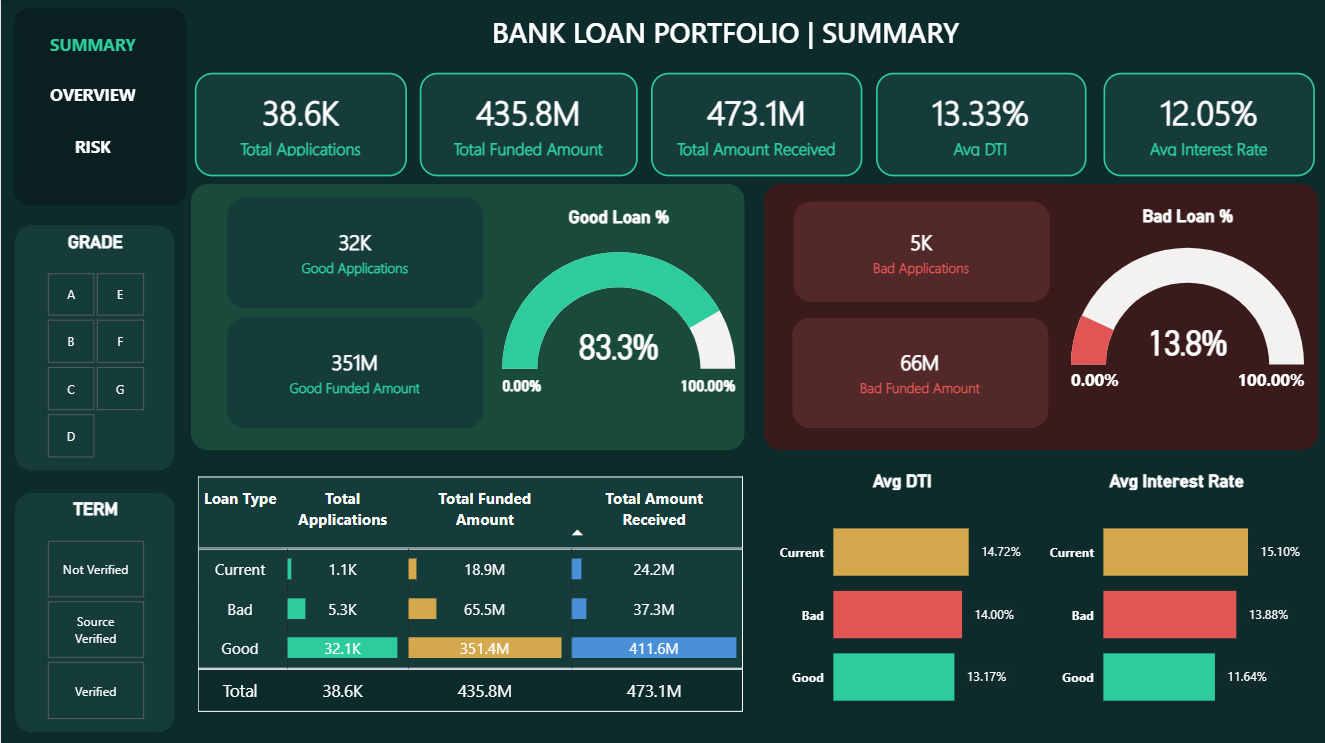

This screenshot's page, from the dashboard's own definition file:
{"tool":"powerbi","page":{"name":"SUMMARY","canvas":[1280,720],"ordinal":0},"visuals":[{"type":"shape","box":[735.7,178.6,535.7,257.1],"z":0},{"type":"shape","box":[182.9,178.6,534.3,257.1],"z":1000},{"type":"gauge","fields":{"Y":["loan_data_cleaned2.Good Loan %"]},"box":[478.8,200,235,208.8],"z":2000},{"type":"cardVisual","fields":{"Data":["loan_data_cleaned2.Good Funded Amount"]},"box":[218.8,307.5,247.5,106.2],"z":3000},{"type":"cardVisual","fields":{"Data":["loan_data_cleaned2.Good Applications"]},"box":[218.8,191.2,247.5,106.2],"z":4000},{"type":"gauge","fields":{"Y":["loan_data_cleaned2.Bad Loan %"]},"box":[1027.5,198.8,235,207.5],"z":5000},{"type":"textbox","box":[440,8.8,517.5,46.2],"z":6000},{"type":"shape","box":[12.5,8.8,167.5,191.2],"z":7000},{"type":"actionButton","box":[38.8,22.5,100,40],"z":8000},{"type":"actionButton","box":[38.8,71.2,100,40],"z":9000},{"type":"actionButton","box":[38.8,121.2,100,40],"z":10000},{"type":"slicer","title":"GRADE","fields":{"Values":["loan_data_cleaned2.grade"]},"box":[12.9,218.6,154.3,237.1],"z":11000},{"type":"slicer","title":"TERM","fields":{"Values":["loan_data_cleaned2.verification_status"]},"box":[12.9,477.1,154.3,231.4],"z":12000},{"type":"cardVisual","fields":{"Data":["loan_data_cleaned2.Bad Funded Amount"]},"box":[763.8,307.5,247.5,106.2],"z":13000},{"type":"cardVisual","fields":{"Data":["loan_data_cleaned2.Bad Applications"]},"box":[764.3,195.7,247.1,97.1],"z":14000},{"type":"clusteredBarChart","title":"Avg DTI ","fields":{"Y":["loan_data_cleaned2.Avg DTI"],"Category":["loan_data_cleaned2.loan_type"]},"box":[745.7,454.3,248.6,254.3],"z":15000},{"type":"clusteredBarChart","title":"Avg Interest Rate","fields":{"Y":["loan_data_cleaned2.Avg Interest Rate"],"Category":["loan_data_cleaned2.loan_type"]},"box":[1005.7,454.3,257.1,254.3],"z":16000},{"type":"tableEx","fields":{"Values":["loan_data_cleaned2.loan_type","loan_data_cleaned2.Total Applications","loan_data_cleaned2.Total Funded Amount","loan_data_cleaned2.Total Amount Received"]},"box":[182.9,455.7,547.1,252.9],"z":17000},{"type":"cardVisual","fields":{"Data":["loan_data_cleaned2.Total Amount Received"]},"box":[627.1,71.4,204.3,100],"z":18000},{"type":"cardVisual","fields":{"Data":["loan_data_cleaned2.Total Applications"]},"box":[187.1,71.4,205,100],"z":19000},{"type":"cardVisual","fields":{"Data":["loan_data_cleaned2.Total Funded Amount"]},"box":[404.3,71.4,210,100],"z":20000},{"type":"cardVisual","fields":{"Data":["loan_data_cleaned2.Avg Interest Rate"]},"box":[1064.3,71.4,204.3,100],"z":21000},{"type":"cardVisual","fields":{"Data":["loan_data_cleaned2.Avg DTI"]},"box":[844.3,71.4,202.9,100],"z":22000}]}

Visuals, with their boxes in screenshot pixels (x1, y1, x2, y2), scaled from the page's 1280x720 canvas onto the 1325x743 screenshot:
shape: select_region(762, 184, 1316, 450)
shape: select_region(189, 184, 742, 450)
gauge - loan_data_cleaned2.Good Loan %: select_region(496, 206, 739, 422)
cardVisual - loan_data_cleaned2.Good Funded Amount: select_region(226, 317, 483, 427)
cardVisual - loan_data_cleaned2.Good Applications: select_region(226, 197, 483, 307)
gauge - loan_data_cleaned2.Bad Loan %: select_region(1064, 205, 1307, 419)
textbox: select_region(455, 9, 991, 57)
shape: select_region(13, 9, 186, 206)
actionButton: select_region(40, 23, 144, 64)
actionButton: select_region(40, 73, 144, 115)
actionButton: select_region(40, 125, 144, 166)
"GRADE" slicer: select_region(13, 226, 173, 470)
"TERM" slicer: select_region(13, 492, 173, 731)
cardVisual - loan_data_cleaned2.Bad Funded Amount: select_region(791, 317, 1047, 427)
cardVisual - loan_data_cleaned2.Bad Applications: select_region(791, 202, 1047, 302)
"Avg DTI " clusteredBarChart: select_region(772, 469, 1029, 731)
"Avg Interest Rate" clusteredBarChart: select_region(1041, 469, 1307, 731)
tableEx - loan_data_cleaned2.loan_type x loan_data_cleaned2.Total Applications: select_region(189, 470, 756, 731)
cardVisual - loan_data_cleaned2.Total Amount Received: select_region(649, 74, 861, 177)
cardVisual - loan_data_cleaned2.Total Applications: select_region(194, 74, 406, 177)
cardVisual - loan_data_cleaned2.Total Funded Amount: select_region(419, 74, 636, 177)
cardVisual - loan_data_cleaned2.Avg Interest Rate: select_region(1102, 74, 1313, 177)
cardVisual - loan_data_cleaned2.Avg DTI: select_region(874, 74, 1084, 177)
